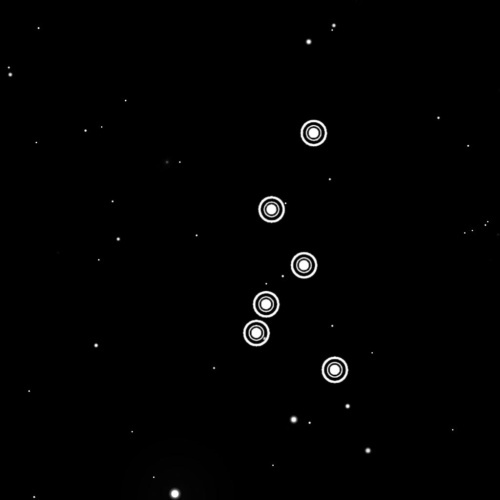cassiopeia: (235, 112, 354, 389)
